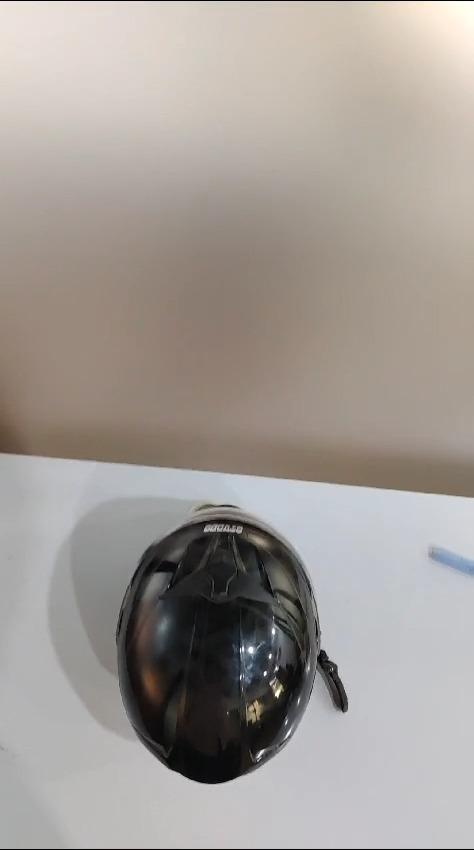Helmet: (116, 496, 346, 780)
